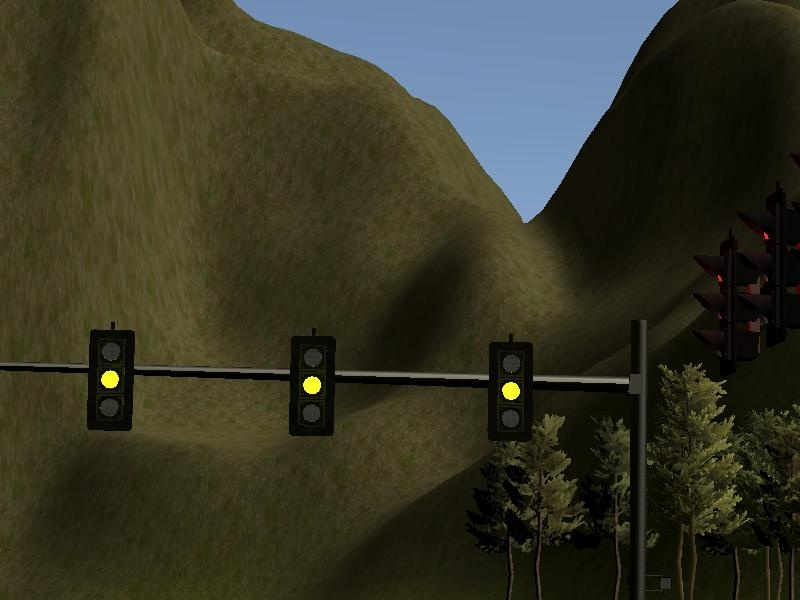YELLOW: (84, 325, 136, 432), (285, 332, 337, 439), (484, 337, 536, 444)
